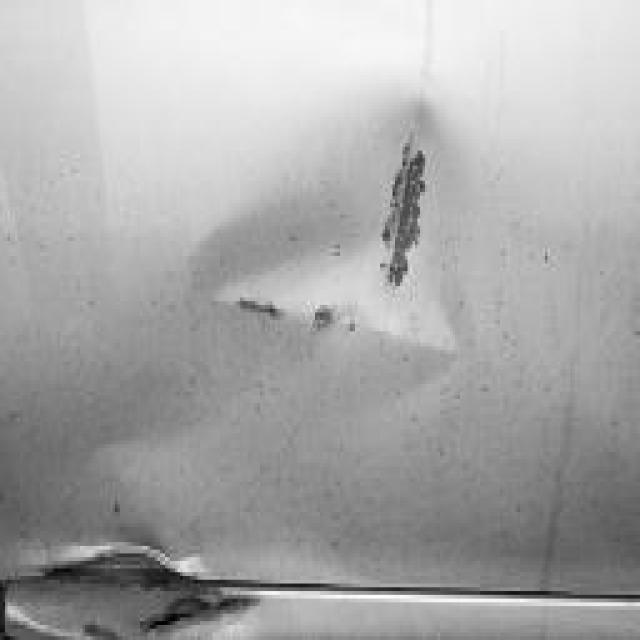Door: (0, 4, 640, 640)
